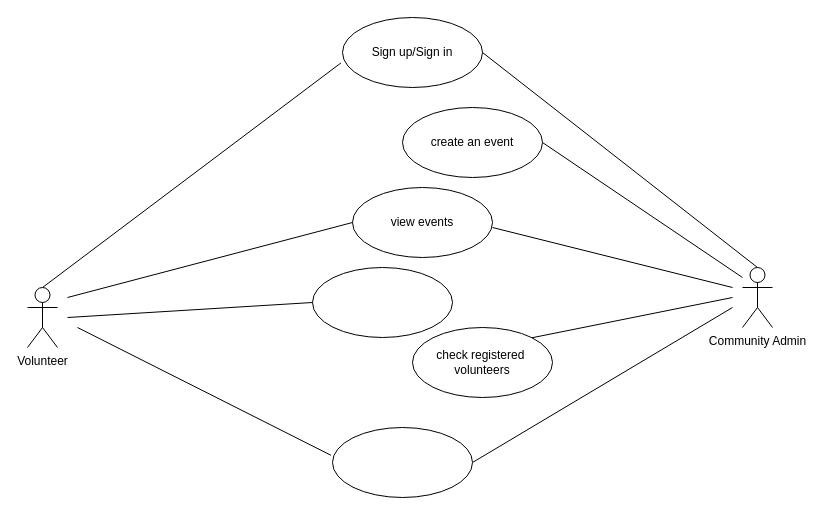
Image size: 823x515. Some labels were removed from this diagram. The shapes that lost their labels are listed below. From the top down, each one's box as (x1, y1, x2, y2) in pixels, then its label:
(312, 266, 452, 338): register/unregister for event
(332, 426, 472, 498): logout
